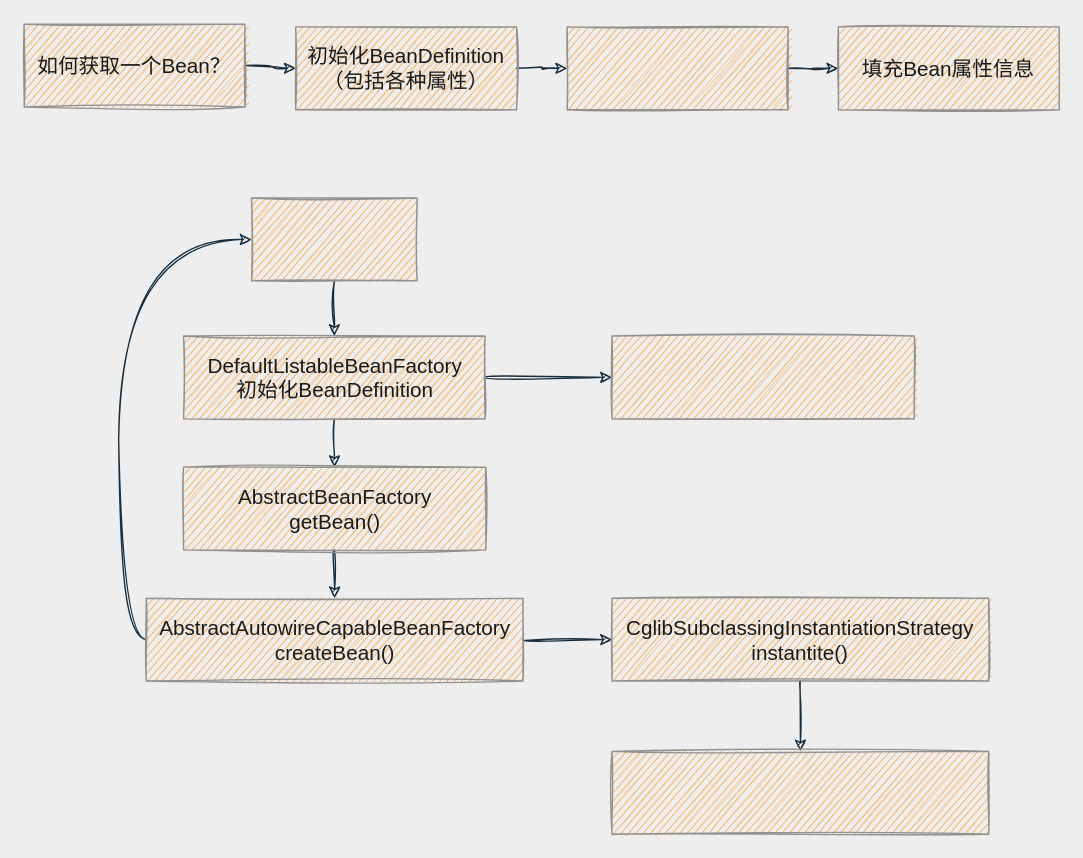
Image size: 1083x858. Some labels were removed from this diagram. The centre of each missing label's shape, as x and y in pixels:
"AbstractAutowireCapableBeanFactory applyPropertyValues()" goes at [800,792].
"getBean？" goes at [333,239].
"MutablePropertyValues 初始化Bean属性信息" goes at [762,377].
"调用Cglib实例化Bean" goes at [677,68].
